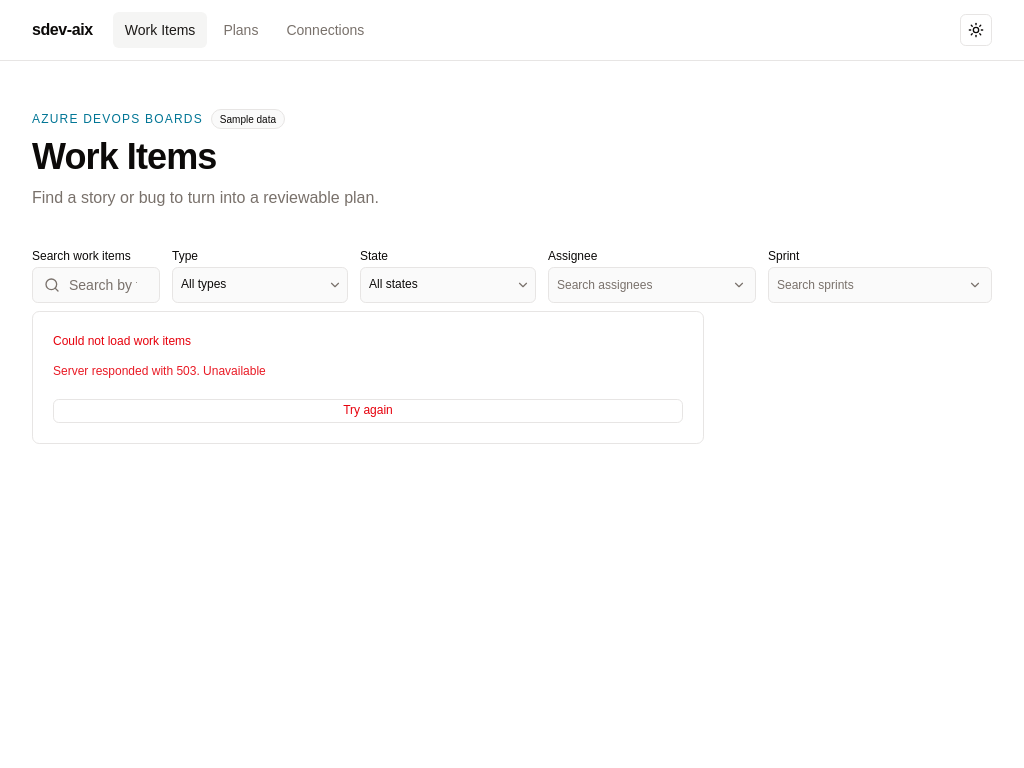
Scenario: work-item browser › can retry a failed request
Expected: the text "Could not load work items" is shown, [53, 334, 191, 348]
Click the button "Try again". click: [368, 411]
box: [53, 399, 683, 423]
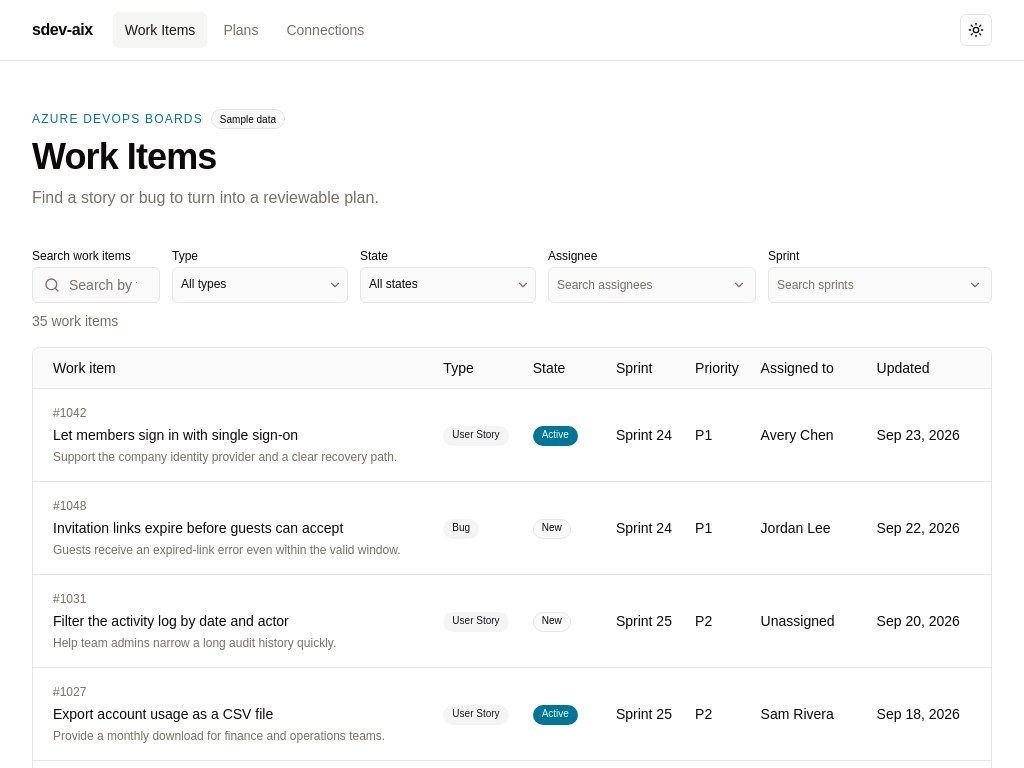
Expected: the text "35 work items" is shown, [32, 313, 118, 329]
